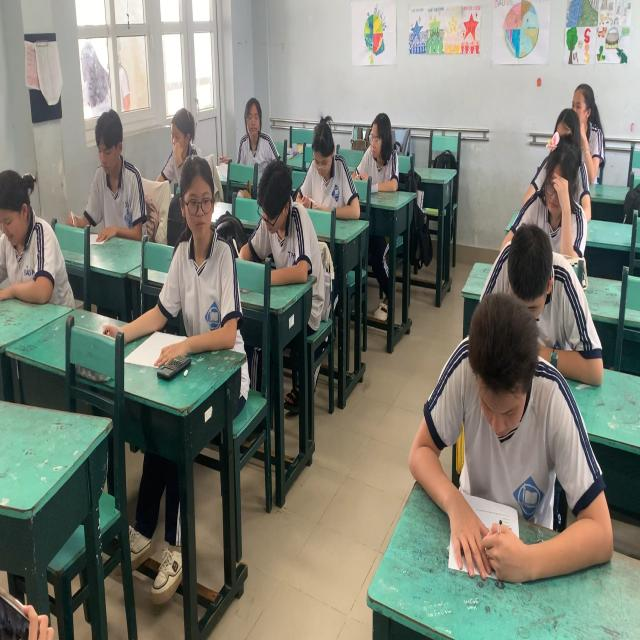cheating: (168, 160, 241, 312)
not_cheating: (416, 284, 578, 602), (494, 222, 590, 391), (0, 119, 76, 315), (84, 112, 140, 243), (512, 157, 586, 247), (253, 153, 306, 232), (550, 88, 602, 160), (298, 105, 339, 192), (360, 104, 401, 180), (236, 87, 270, 163), (160, 101, 204, 153)
